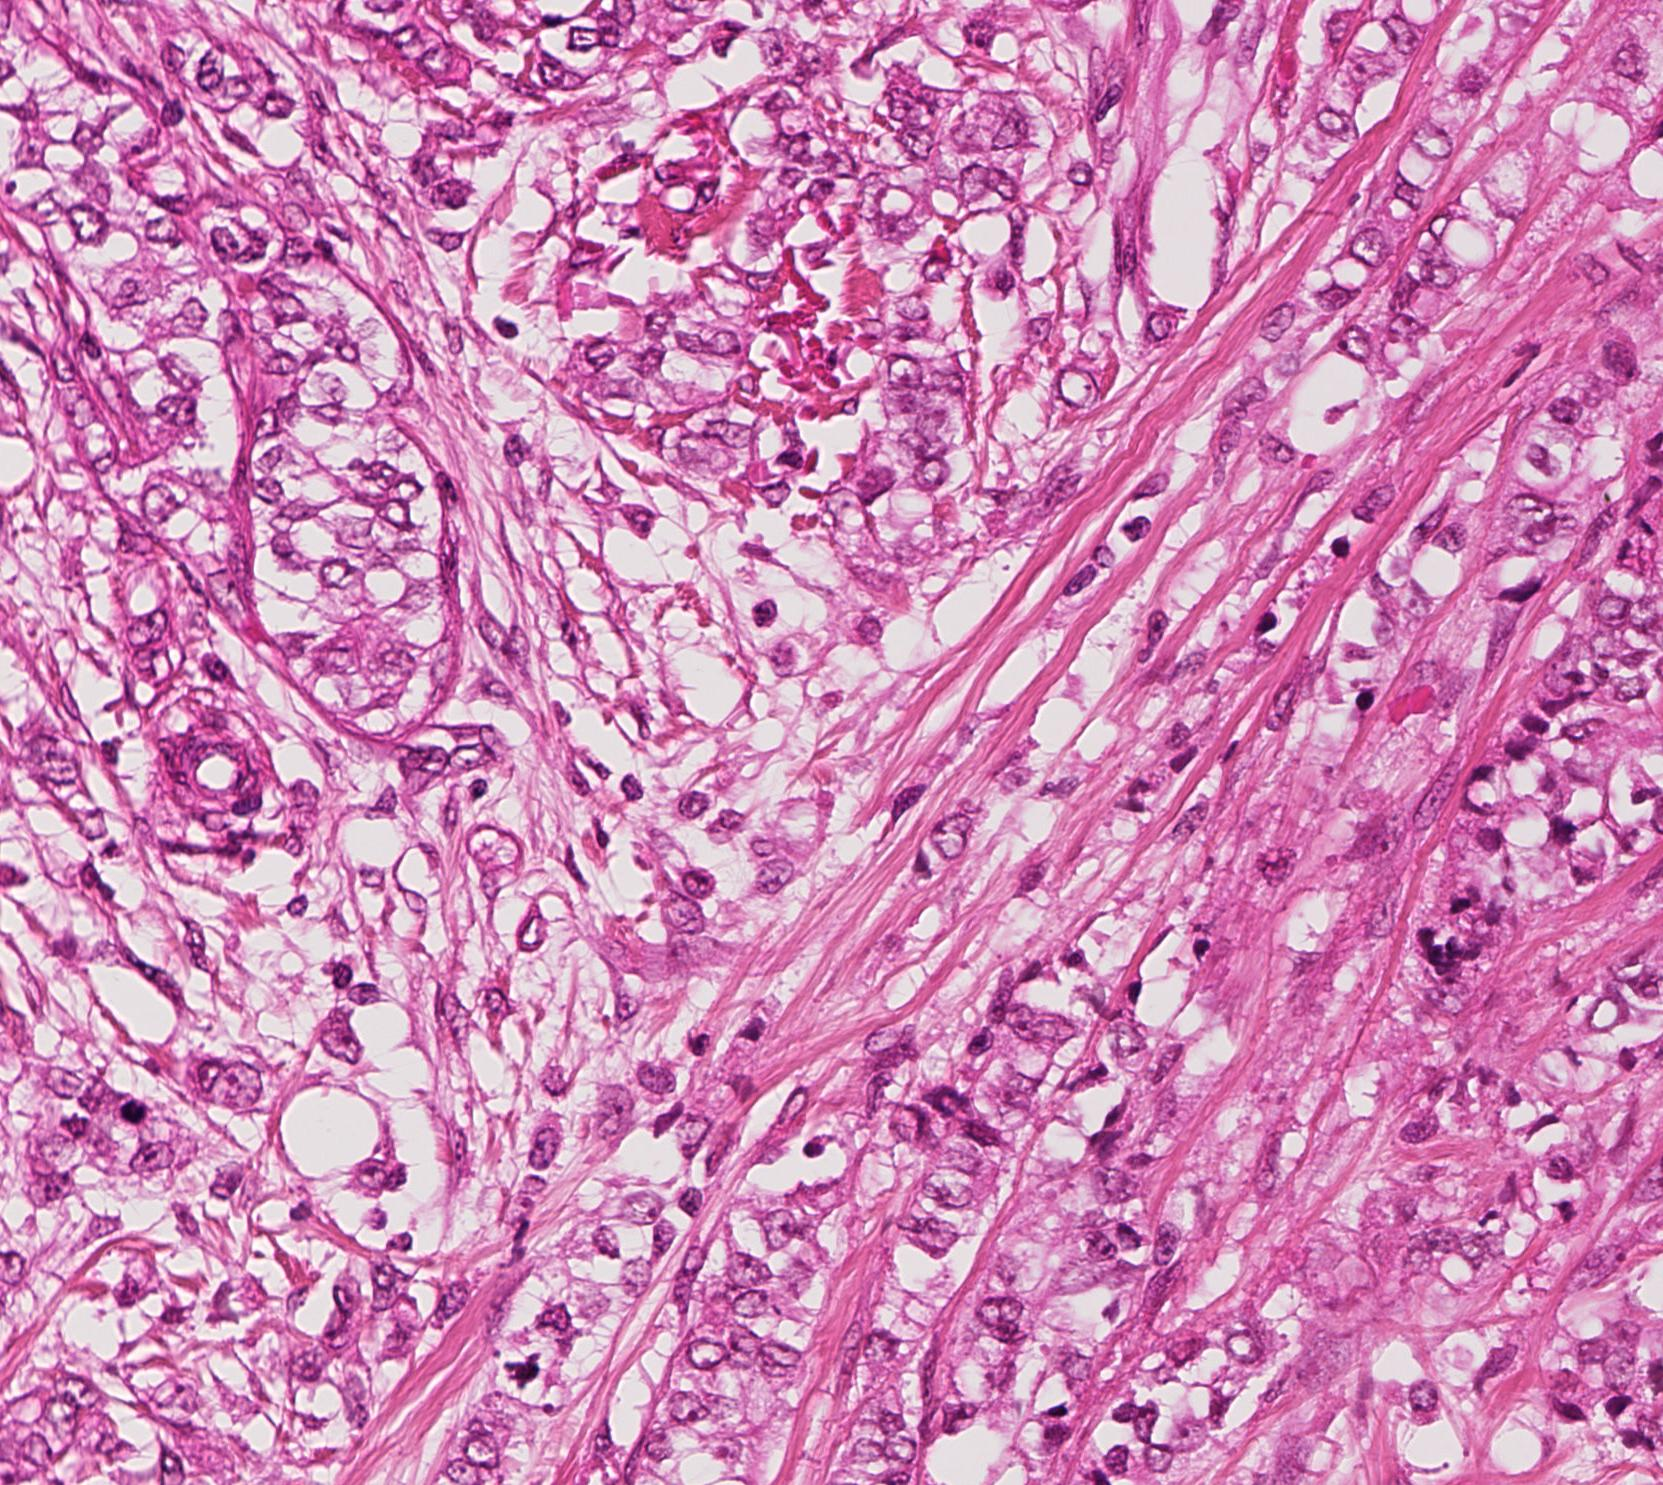mitosis: (496, 1343, 556, 1403)
